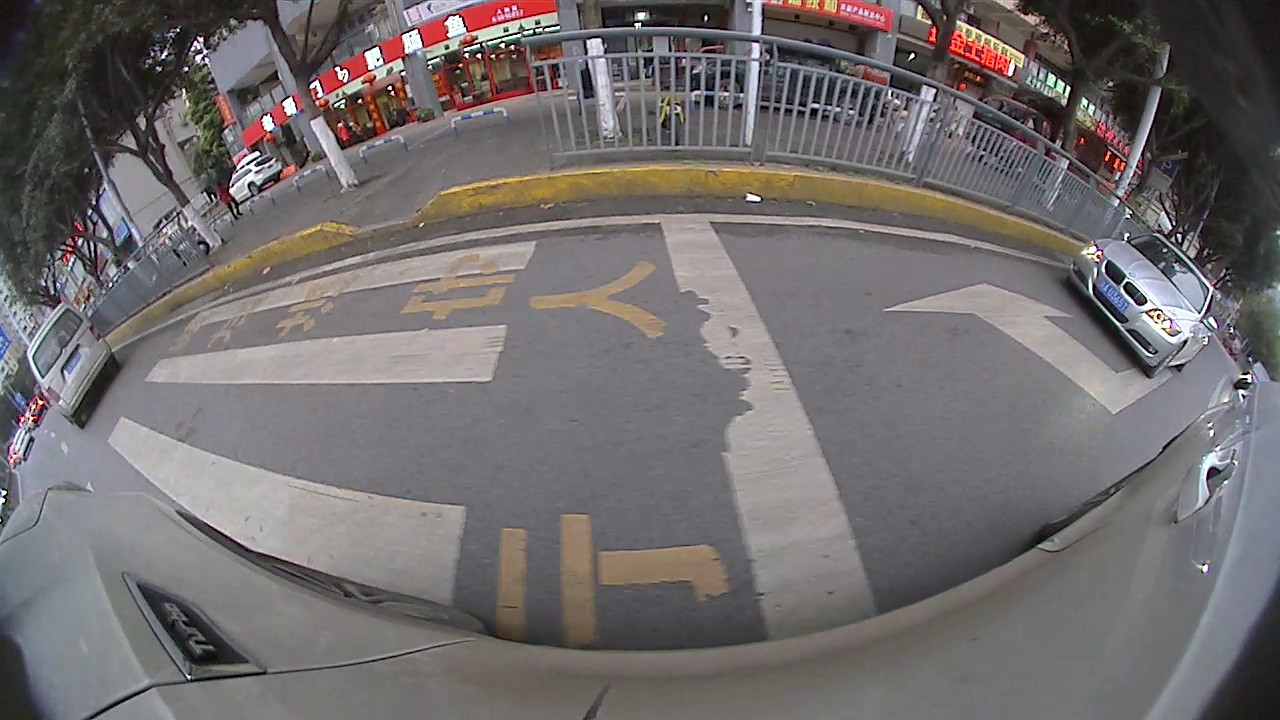car: (1060, 226, 1220, 380), (21, 299, 124, 432), (222, 147, 287, 202)
rear: (245, 182, 265, 196)
